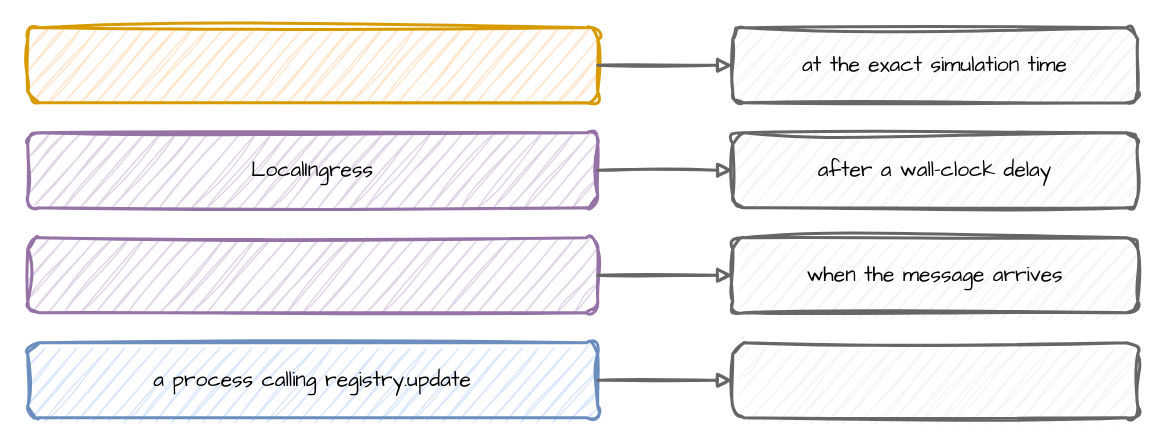
This 1164x444 diagram has some shape labels left out. Here are the shapes that lost their labels. From the top down, the box of each, then its label:
(26, 26, 598, 104): YAML scenario
(26, 236, 598, 314): KafkaIngress, RedisIngress, PostgresIngress
(730, 340, 1138, 418): when the process runs it
